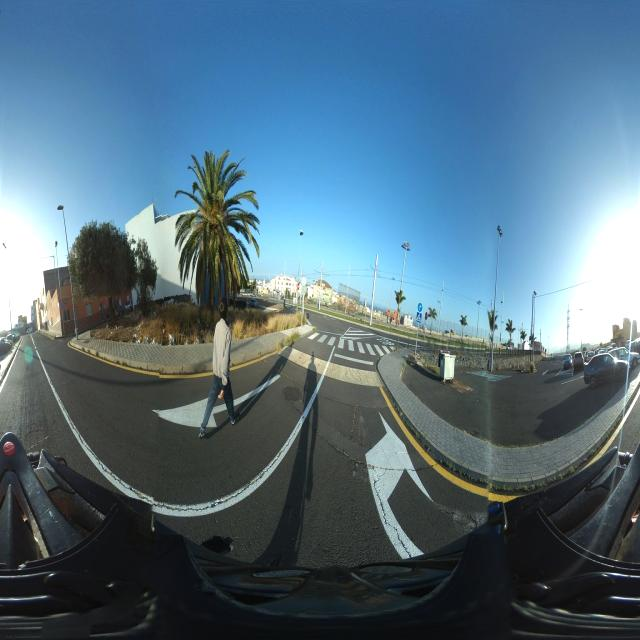car: (236, 294, 262, 308), (560, 353, 574, 373), (573, 351, 585, 369)
